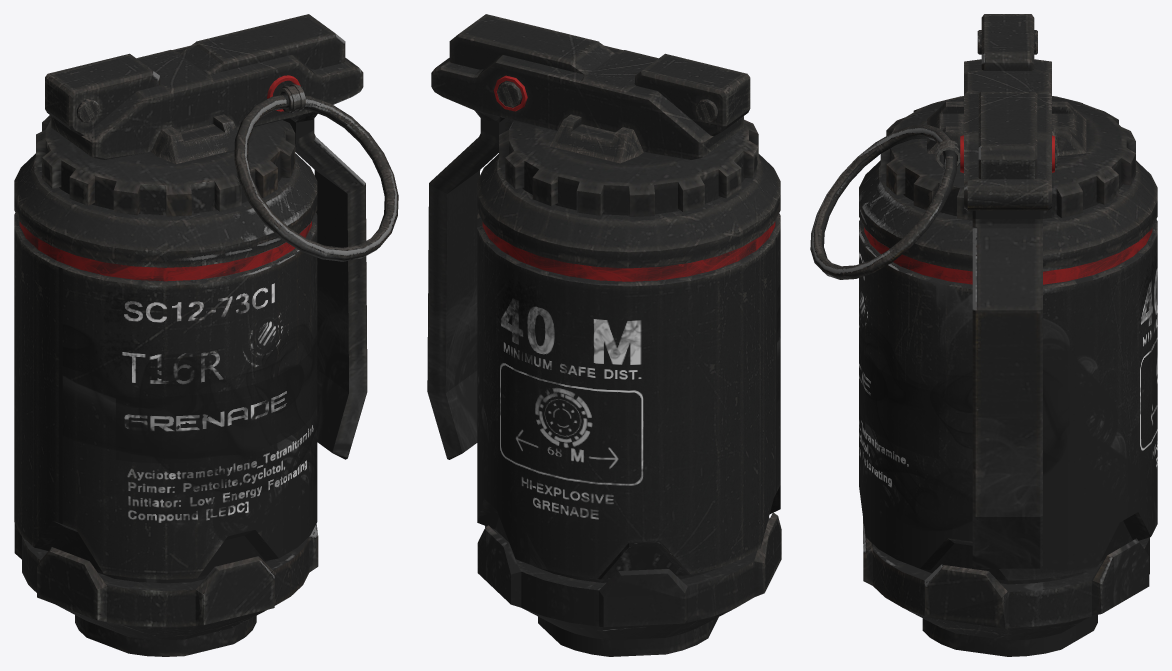
Rendered from grenade.FBX.
3 views of the same model, side by side, from view 1: azimuth 30°, elevation 25°; view 2: azimuth 150°, elevation 25°; view 3: azimuth 270°, elevation 25° (orthographic).
Visible parts, largest first — view 1: Grenade_LP; view 2: Grenade_LP; view 3: Grenade_LP.
Part boxes in pixels (x1,y1,x2,y2): Grenade_LP: [14, 14, 398, 656]; Grenade_LP: [427, 14, 781, 656]; Grenade_LP: [810, 14, 1157, 656].
Size of the model in its own units: 0.0467 by 0.079 by 0.0449.
Materials: 1 (1 with a texture image).
